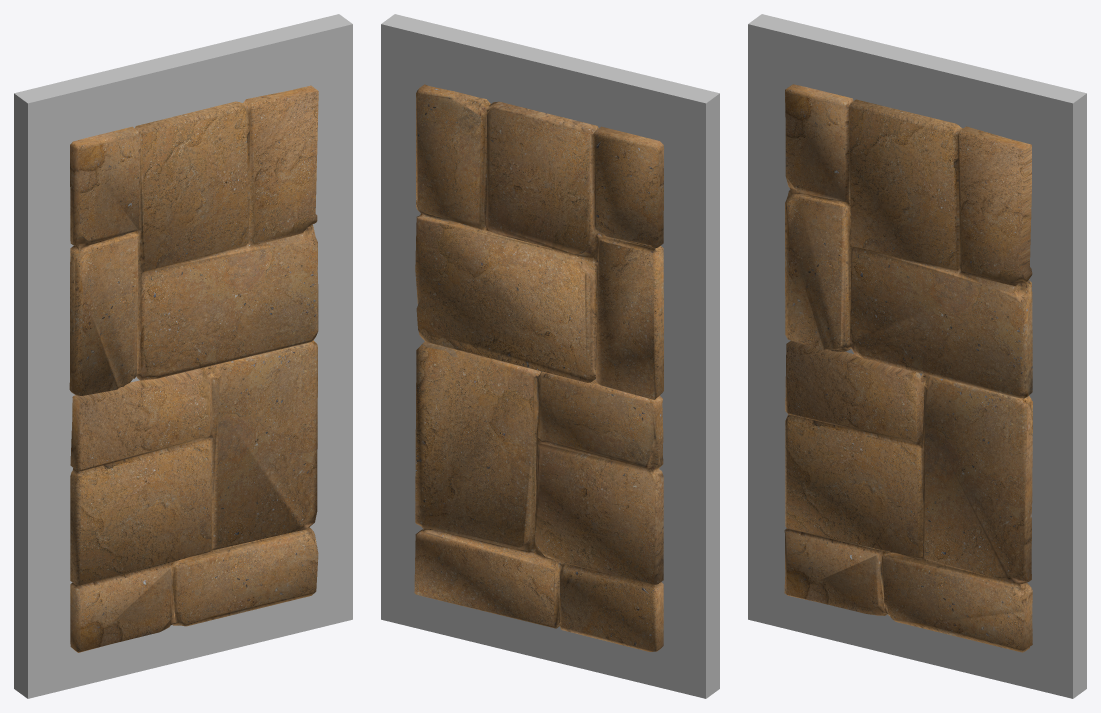
Rendered from HalfWall.gltf.
3 renders of one model, left to right at view 1: azimuth 30°, elevation 25°; view 2: azimuth 150°, elevation 25°; view 3: azimuth 330°, elevation 25°, orthographic.
Visible parts, largest first — view 1: HalfWall; view 2: HalfWall; view 3: HalfWall.
Part boxes in pixels (bbox=[...]): HalfWall: bbox=[14, 14, 352, 698]; HalfWall: bbox=[381, 14, 719, 698]; HalfWall: bbox=[748, 14, 1086, 698].
Size of the model in its own units: 2.68 by 4.68 by 0.4039.
